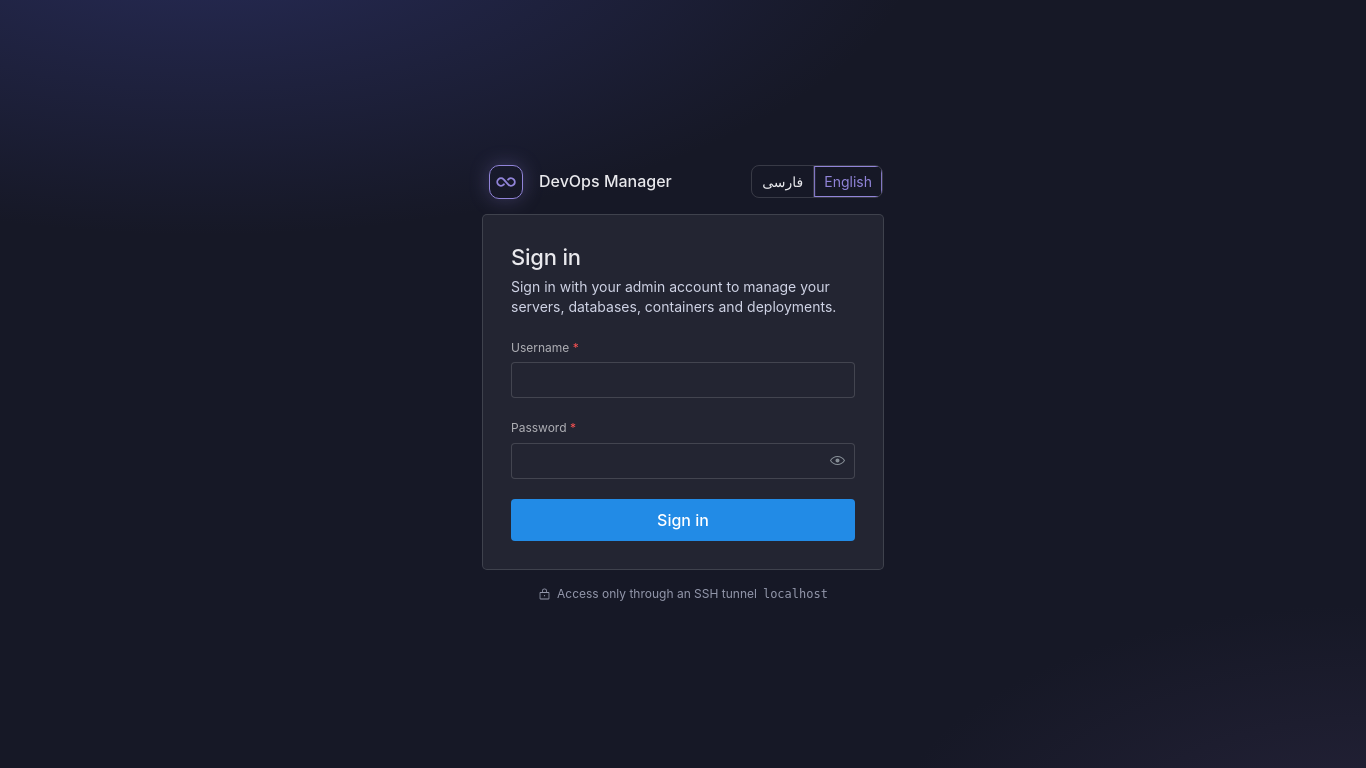
it: LoginPage › requires both fields
What coordinates should you click on to do the following:
click the button "Sign in"
I would click on:
 (683, 520)
Its box is [511,499,855,541].
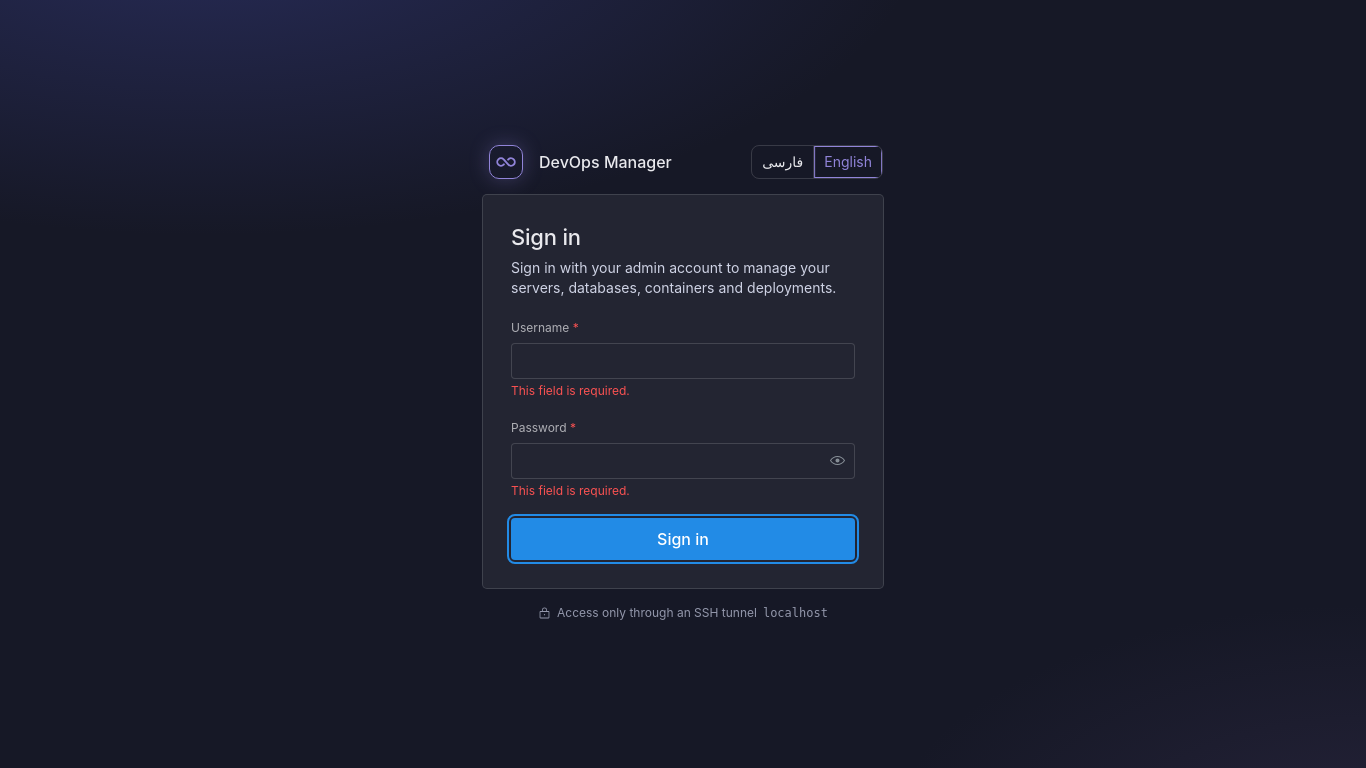
Check: the text "This field is required." is shown 2 times, box [511,383,630,398]; [511,483,630,498]
